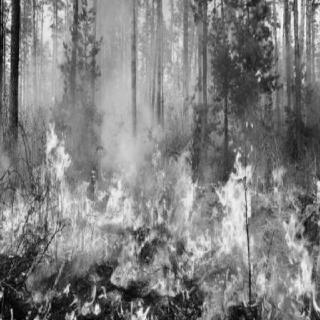Fire: (0, 108, 319, 318)
